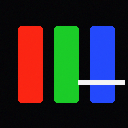3 line_h: (78, 80, 124, 84)
